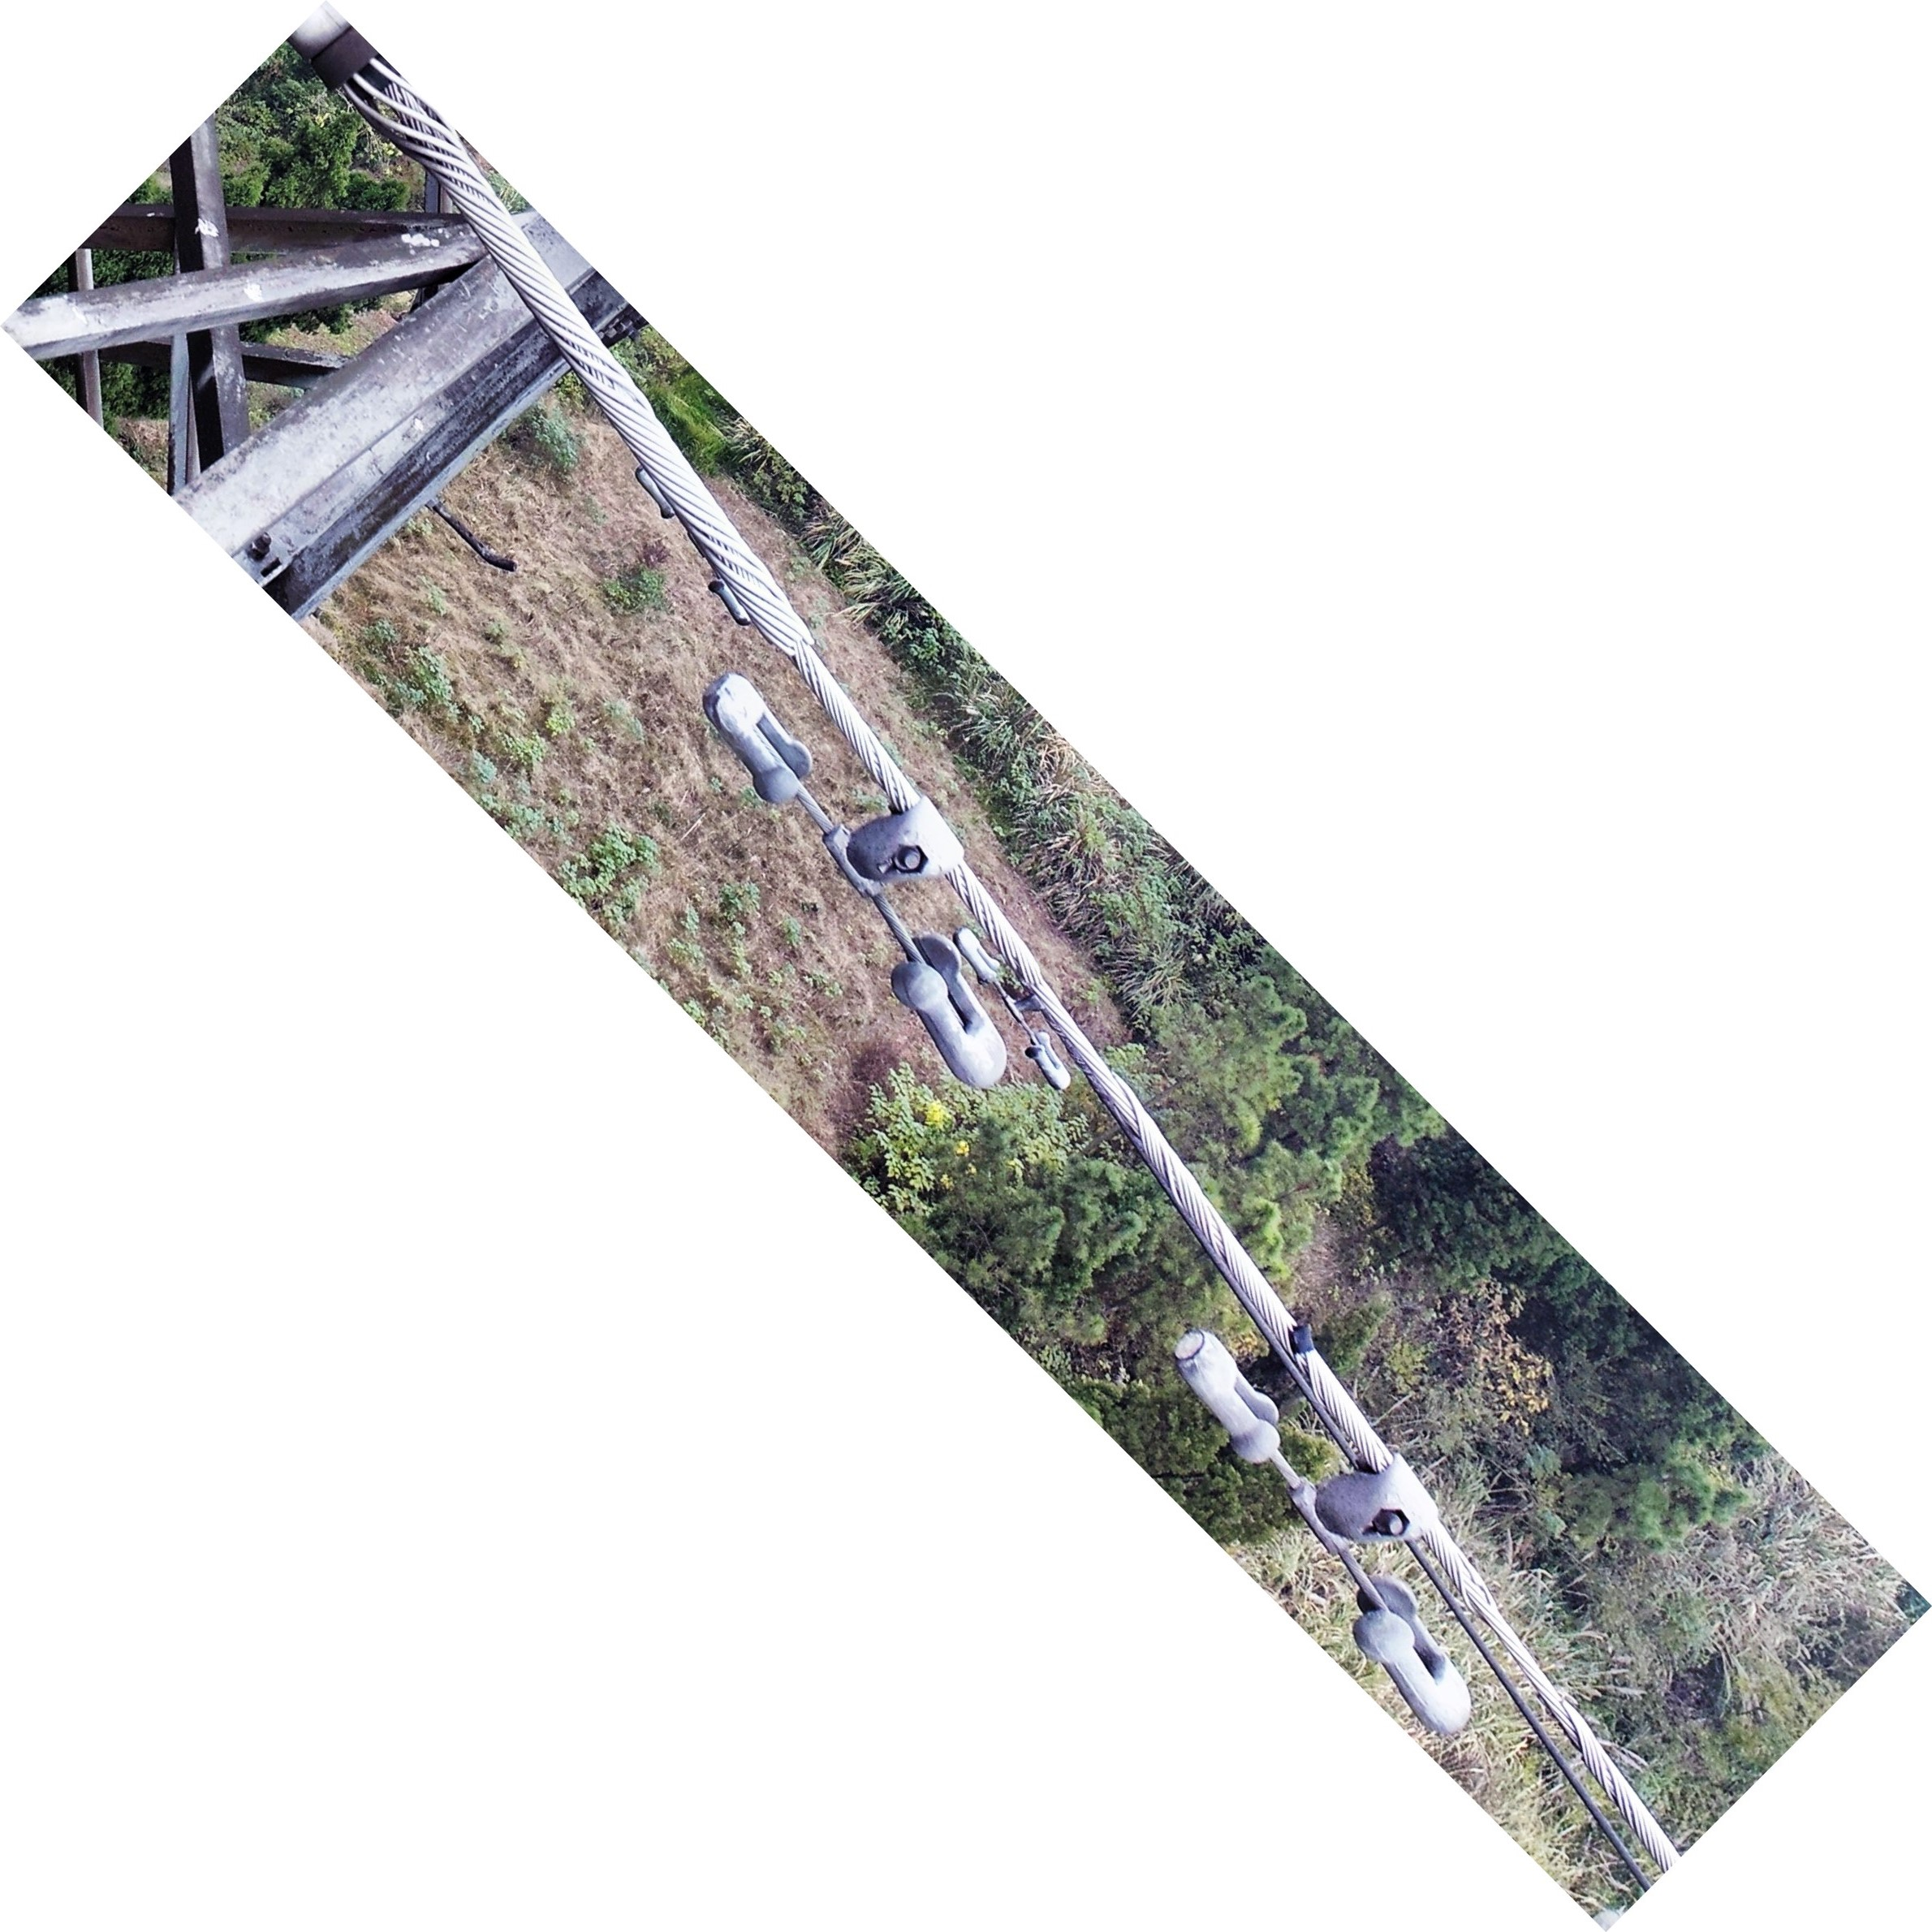Shockproof hammer: (1168, 1295, 1500, 1743), (694, 660, 1023, 1099)
